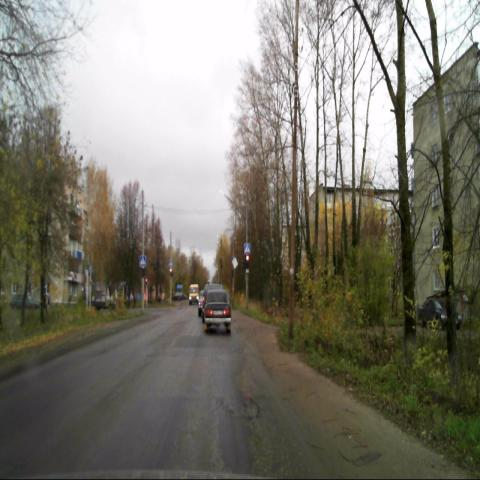2_1: (232, 256, 238, 269)
5_19_1: (139, 253, 147, 267), (243, 242, 250, 255)
